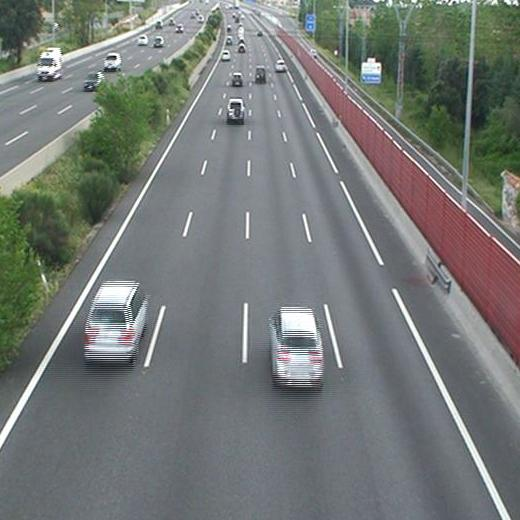car: (84, 282, 147, 361), (269, 307, 324, 386), (226, 99, 245, 119), (254, 67, 266, 80), (275, 59, 287, 71), (232, 74, 242, 85), (221, 51, 230, 61), (237, 43, 245, 52)
